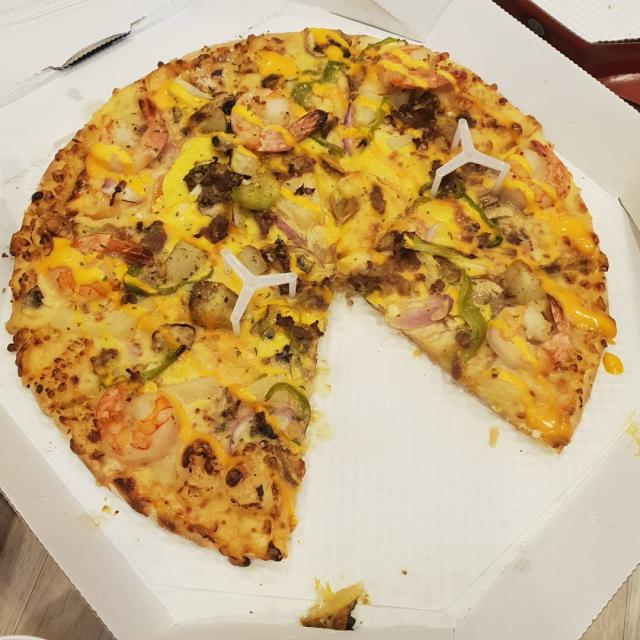pizza: (6, 18, 633, 567)
